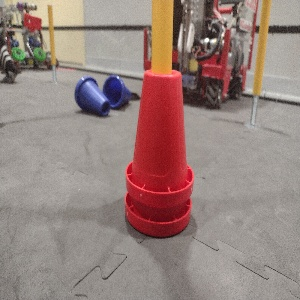Blue_1: (71, 73, 109, 115), (102, 76, 133, 107)
Red_2: (124, 68, 195, 238)
